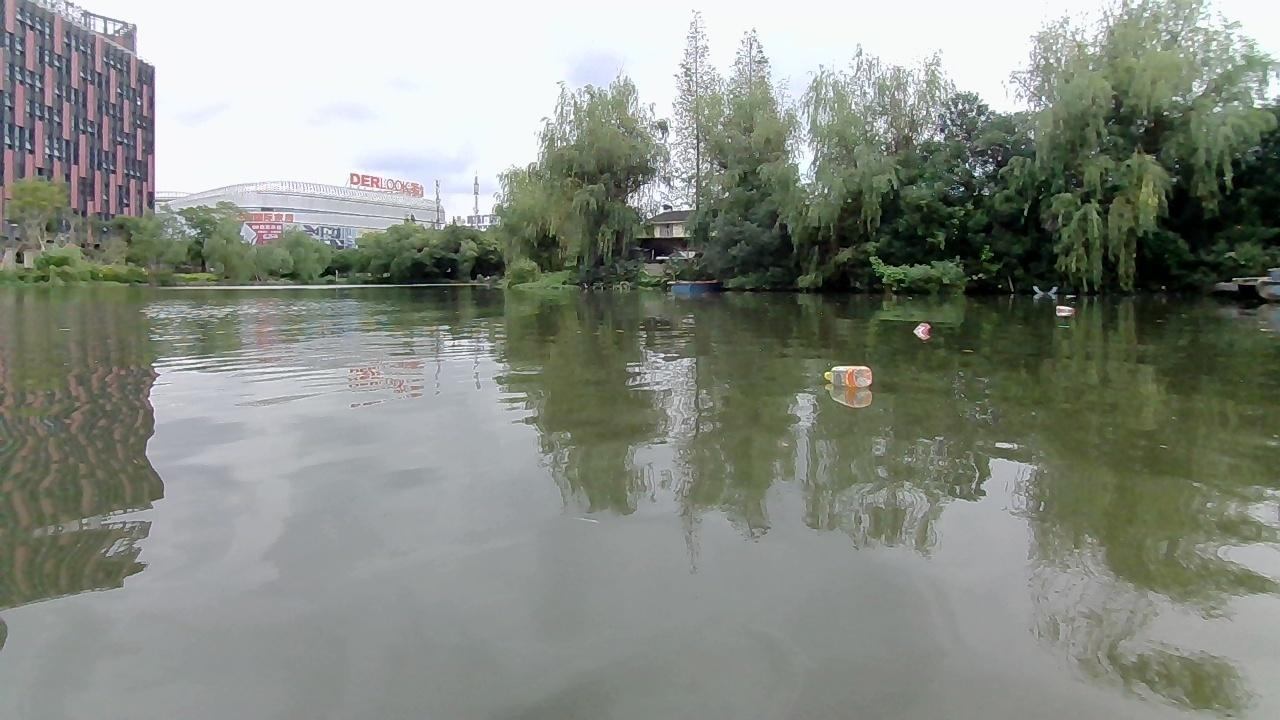bottle: (820, 361, 874, 390), (1051, 299, 1072, 316), (912, 323, 936, 336)
